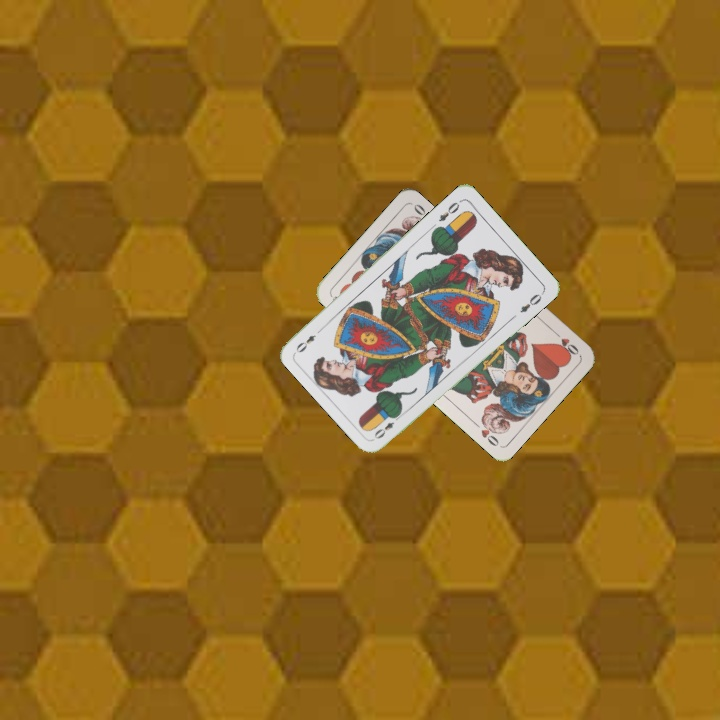EO: (370, 410, 404, 442), (434, 196, 464, 224)
HO: (549, 327, 582, 358)
